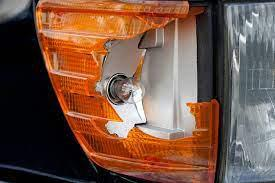Signlight-Damage: (26, 1, 222, 180)
